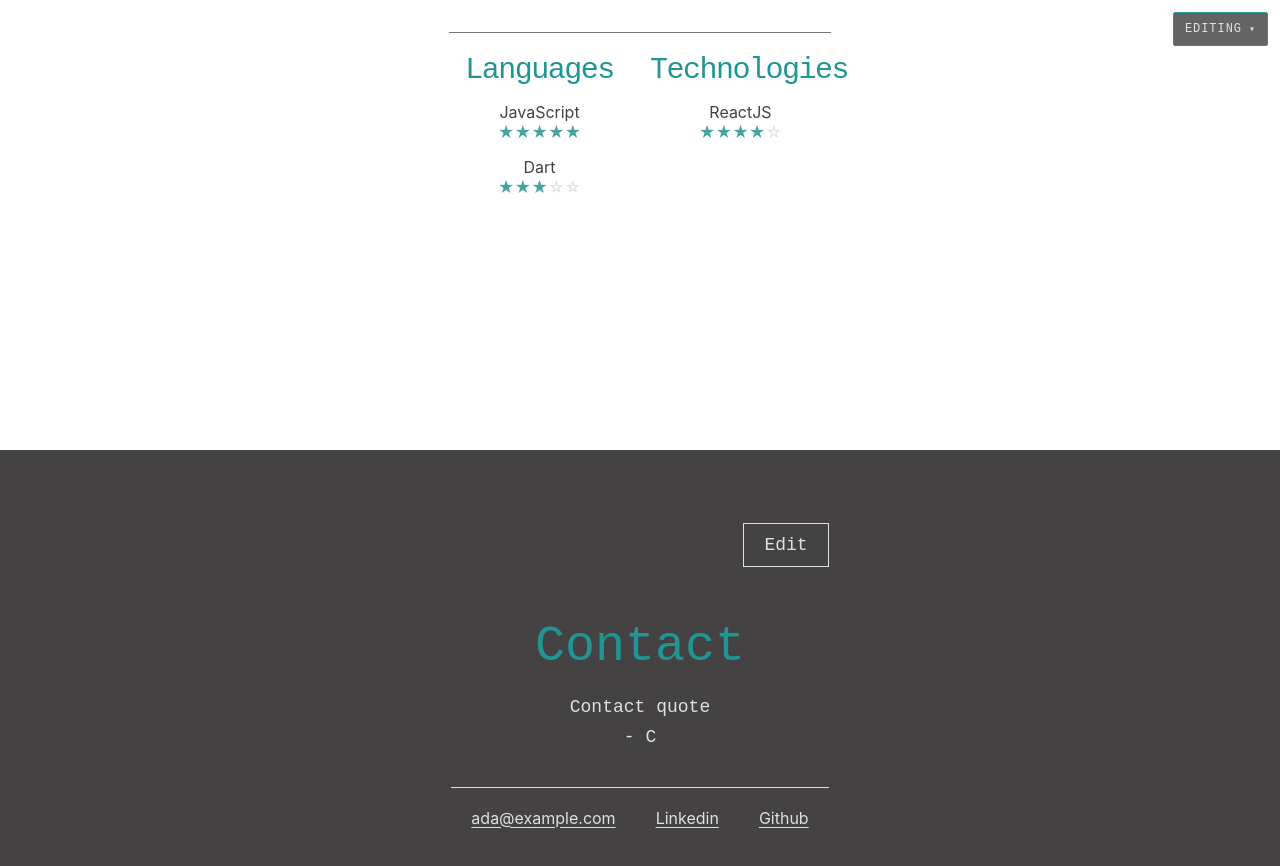
Scenario: edit flow: editing the remaining profile fields › saves a link and the quote together, from one Save
(page scrolled)
Click the button with class "editcontrol" at [786, 544], box [743,522,829,566]
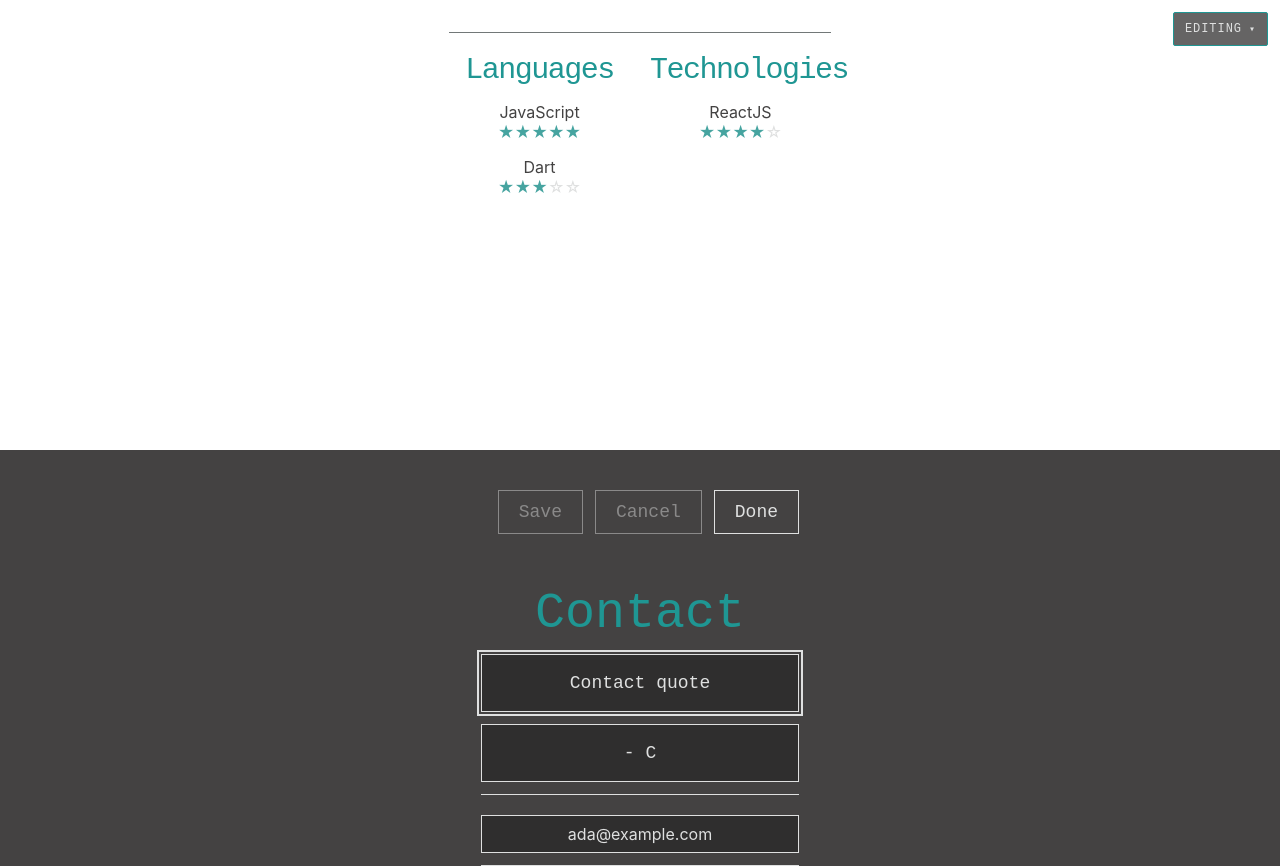
Replace the text in the text box with id "contact-quoteEdit" with "A new closing line." at [640, 683], box [481,654,799,712]
(page scrolled)
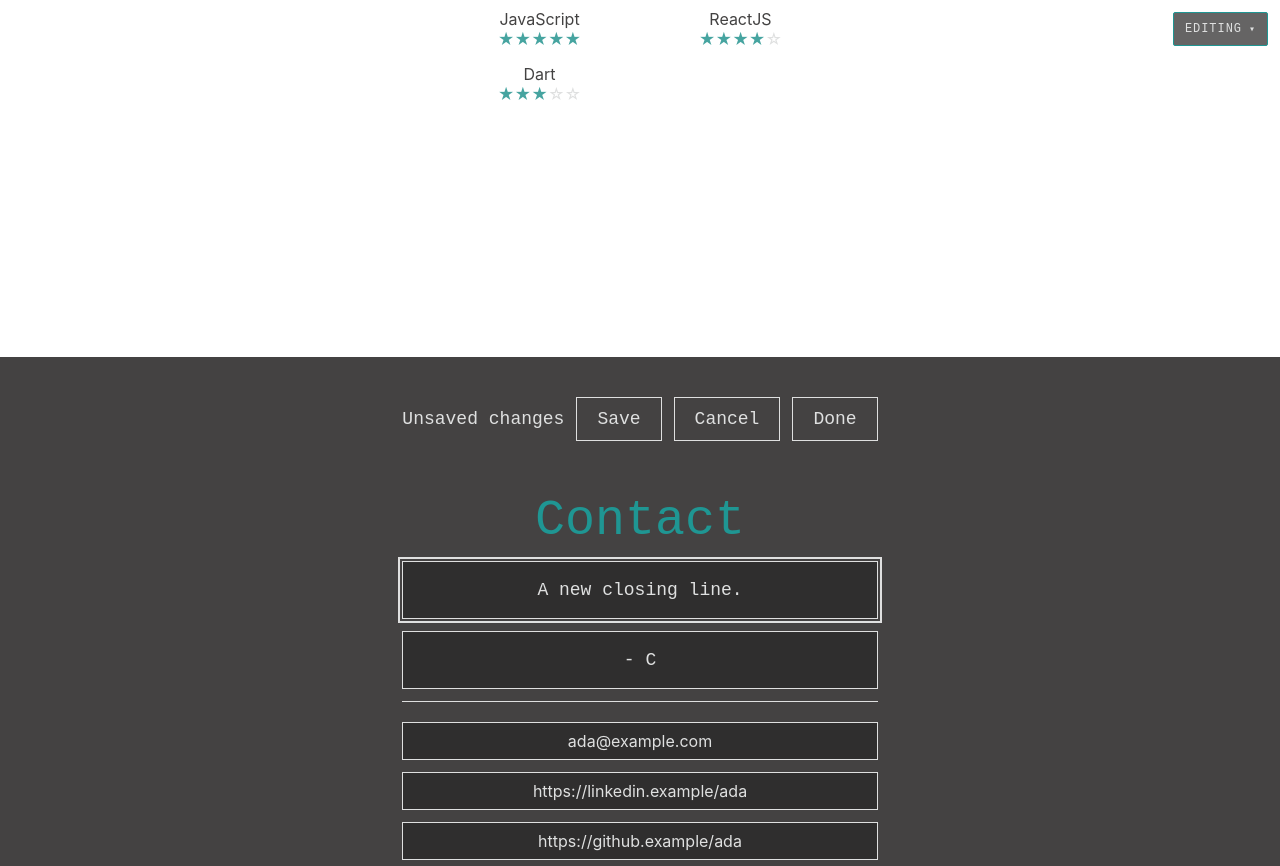
Replace the text in the text box with id "contact-githubEdit" with "https://github.example/grace" at [640, 841], box [402,822,878,860]
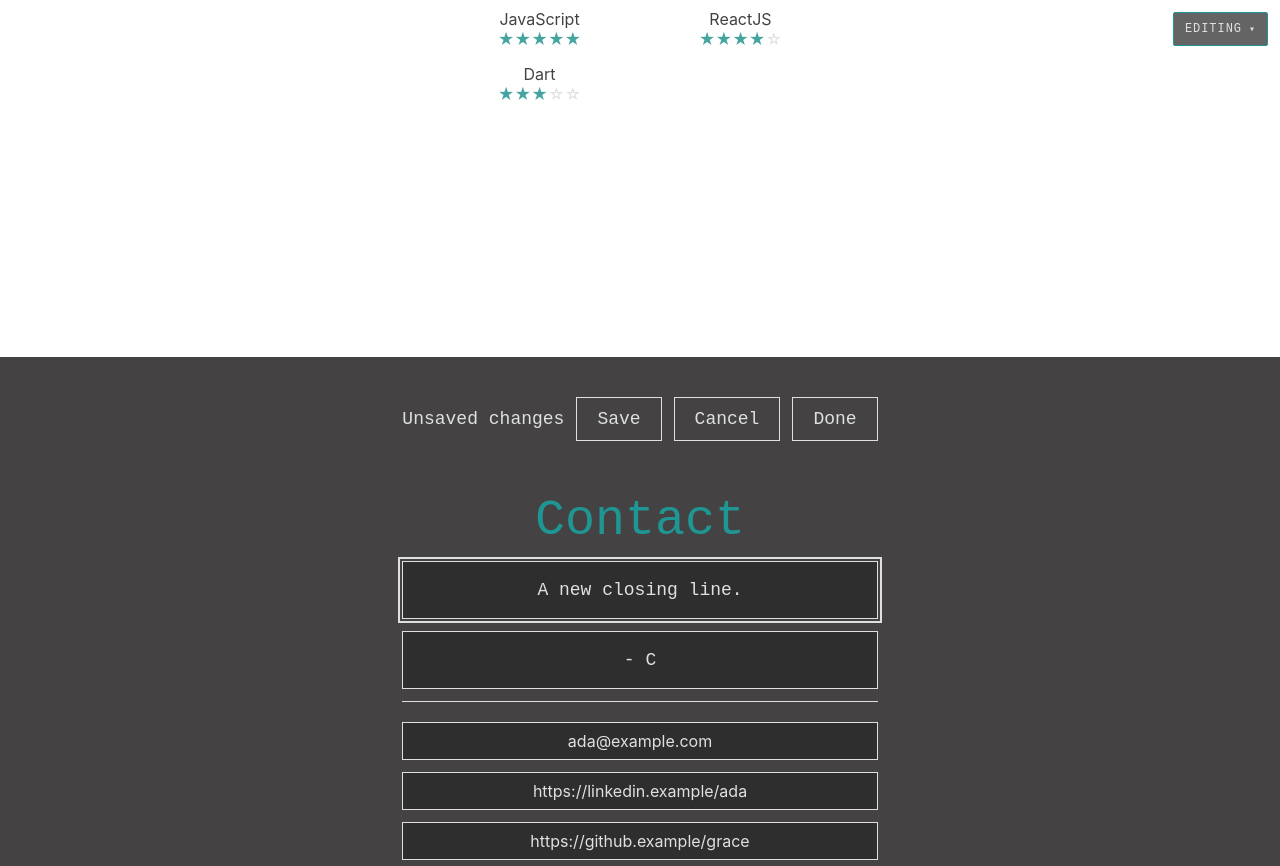
Click the button with class "editcontrol" showing "Save" at [619, 419], box [576,397,662,441]
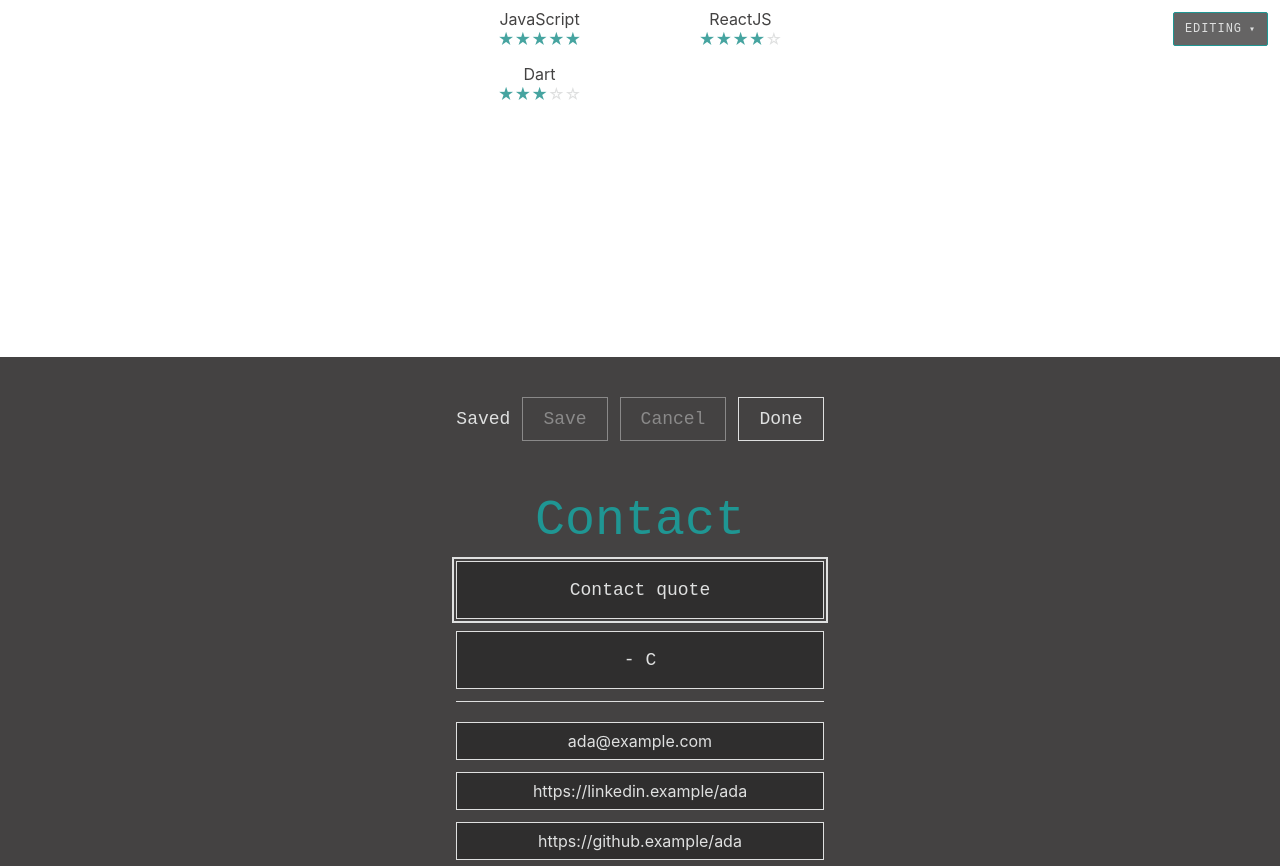
Expected: the message with class "editstatus" reads "Saved", [456,409,510,429]
